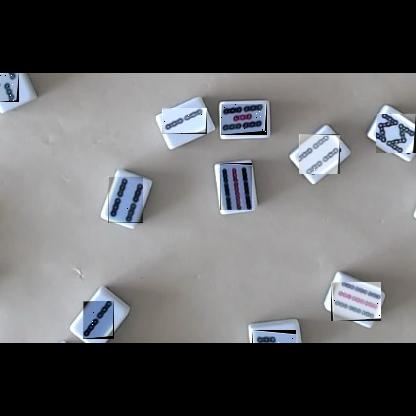2s: (83, 301, 114, 339), (162, 108, 207, 134)
3s: (252, 330, 296, 343), (0, 73, 19, 102)
4s: (108, 176, 143, 223), (299, 134, 340, 174)
5s: (221, 104, 267, 135)
8s: (376, 113, 416, 153)
9s: (331, 282, 381, 321), (220, 163, 252, 210)
